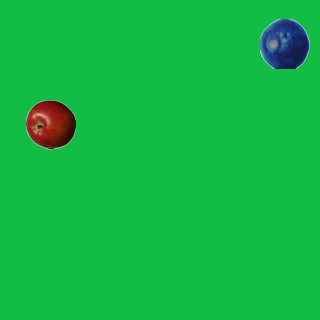Apple Braeburn: (25, 99, 75, 149)
Huckleberry: (259, 18, 309, 68)
